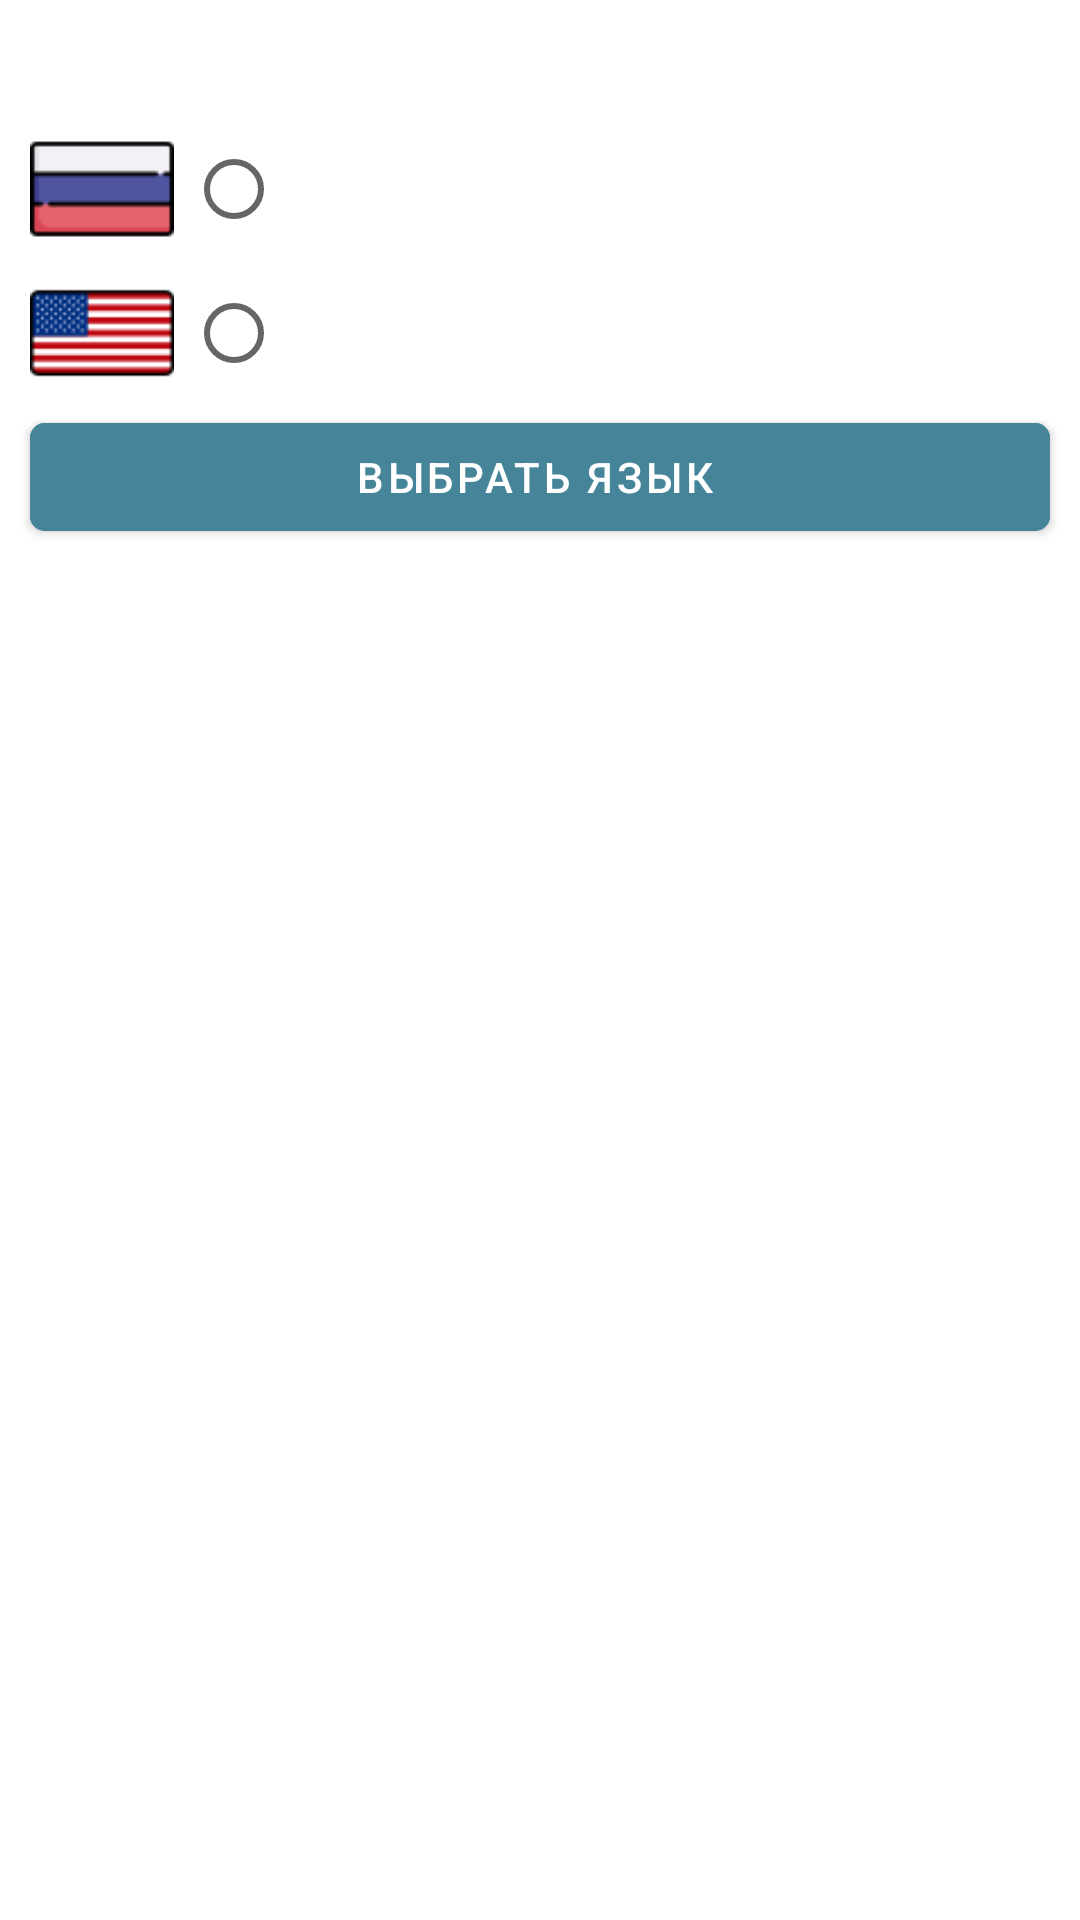

Screen size 1080px×1920px. Icon name, then its center in pixels as [x,y]:
russia: [102,189]
united states: [102,333]
